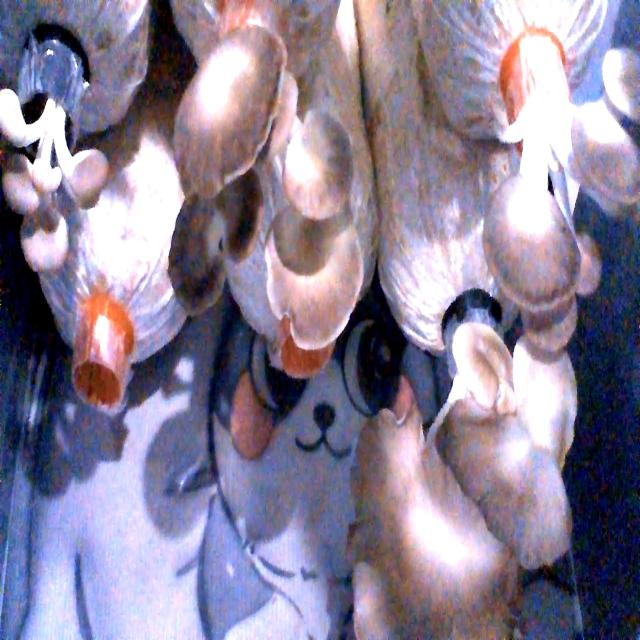big: (328, 307, 587, 640), (166, 49, 370, 353), (489, 64, 640, 338)
nfound: (71, 334, 135, 432)
small: (7, 94, 119, 292)
